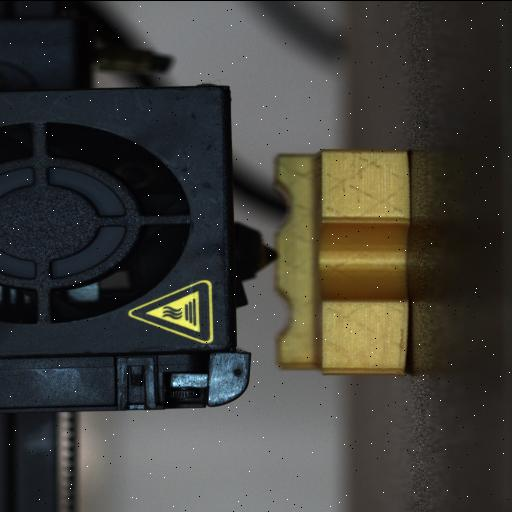warp: (384, 330, 416, 378)
